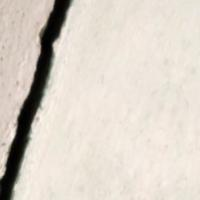crack: (0, 0, 82, 199)
